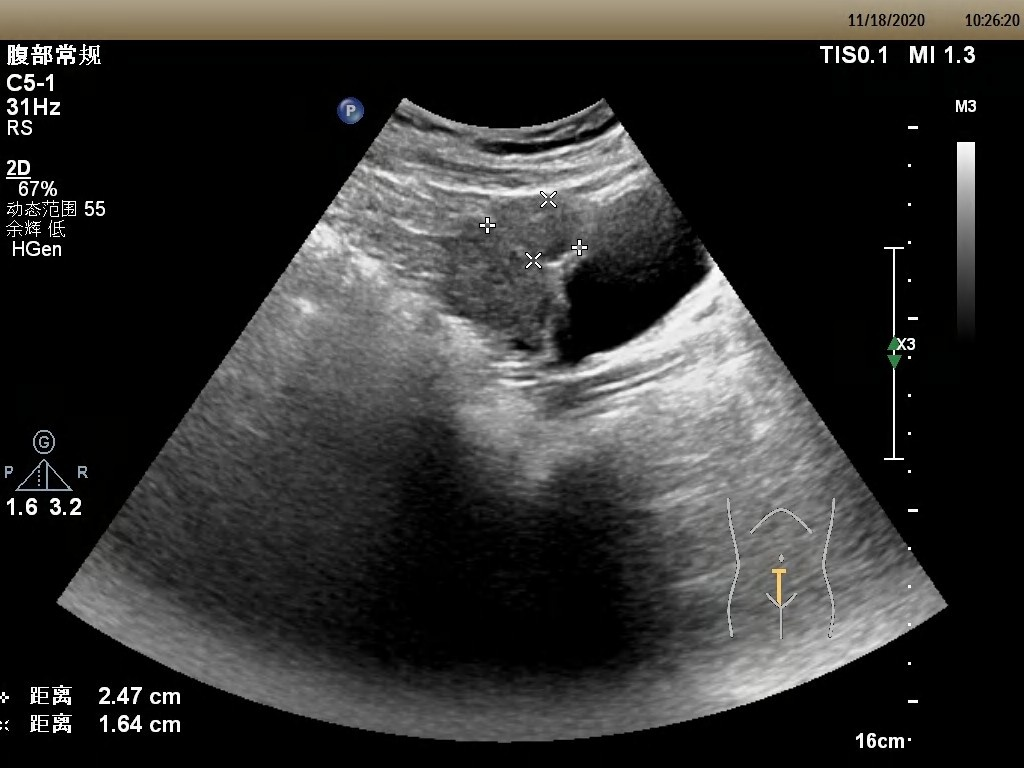肌瘤: (486, 199, 581, 260)
